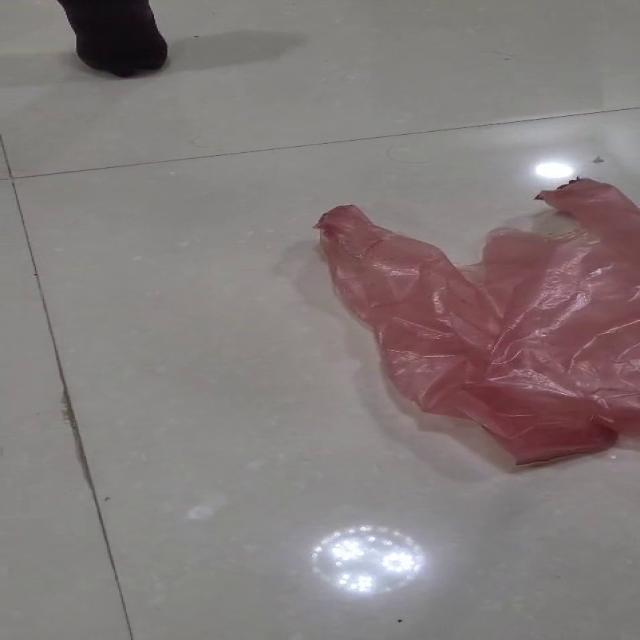plastic: (312, 176, 639, 466)
